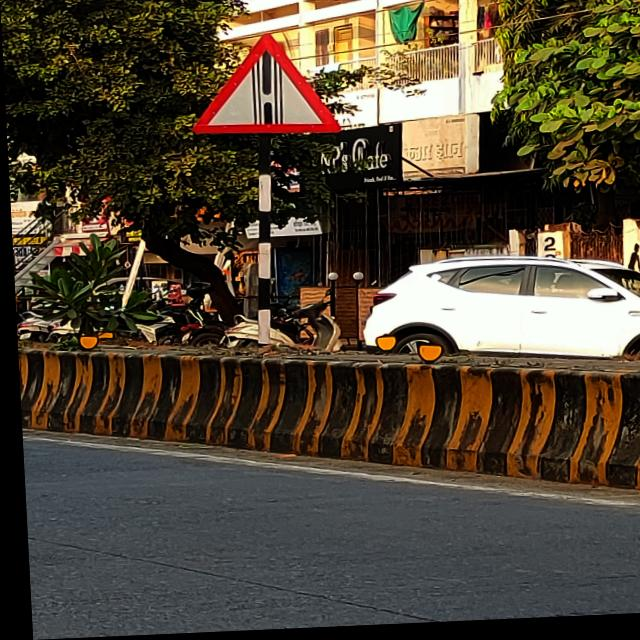GAP_IN_MEDIAN: (173, 27, 349, 144)
